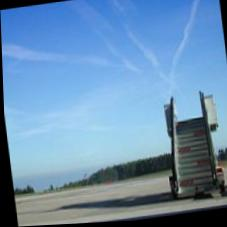Bench: (166, 115, 219, 187)
